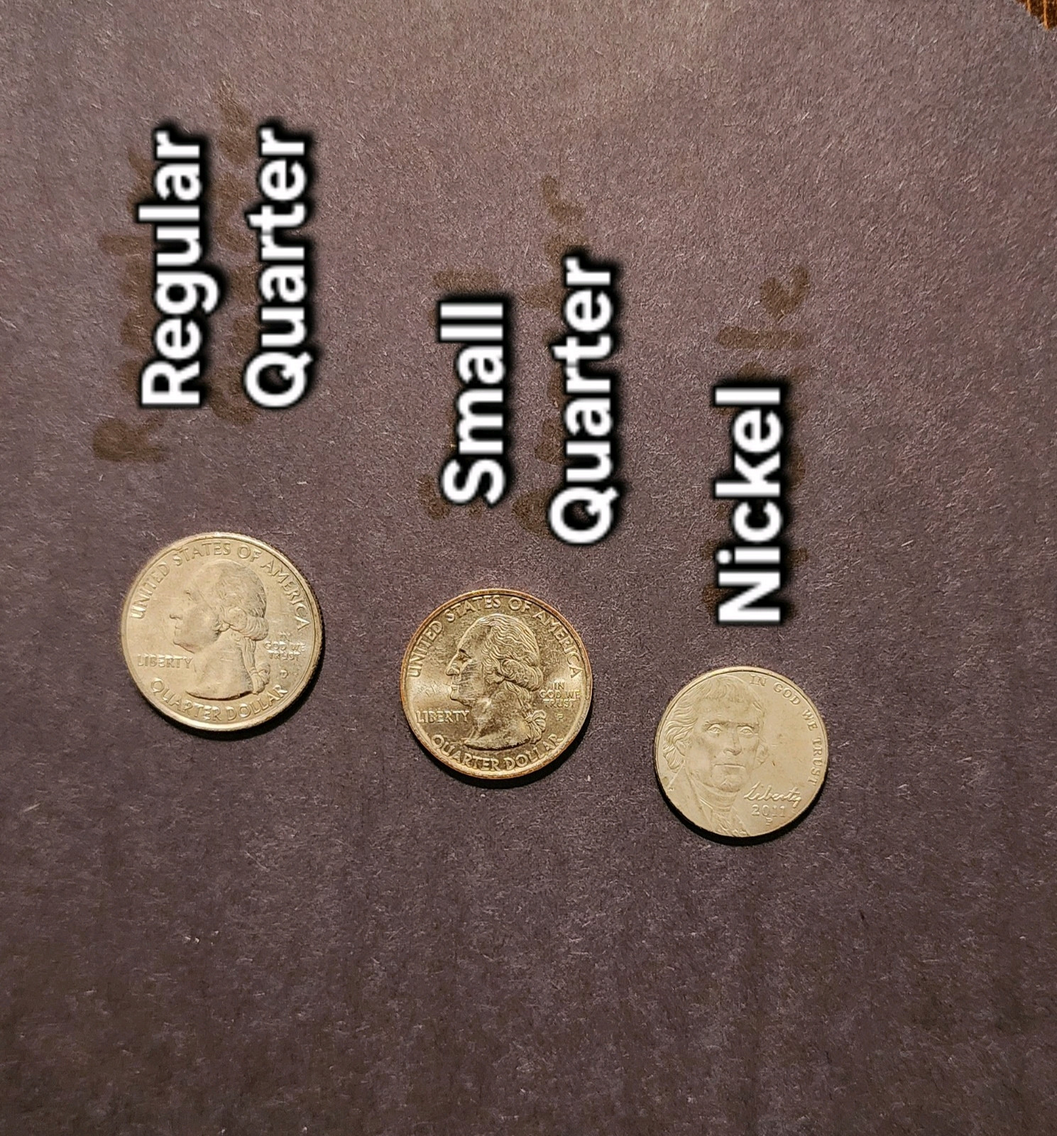coin: (121, 533, 322, 731), (401, 589, 591, 779), (655, 667, 827, 837)
